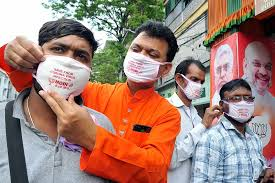mask: (25, 12, 101, 108), (117, 21, 174, 90), (214, 75, 258, 127), (174, 55, 210, 103)
